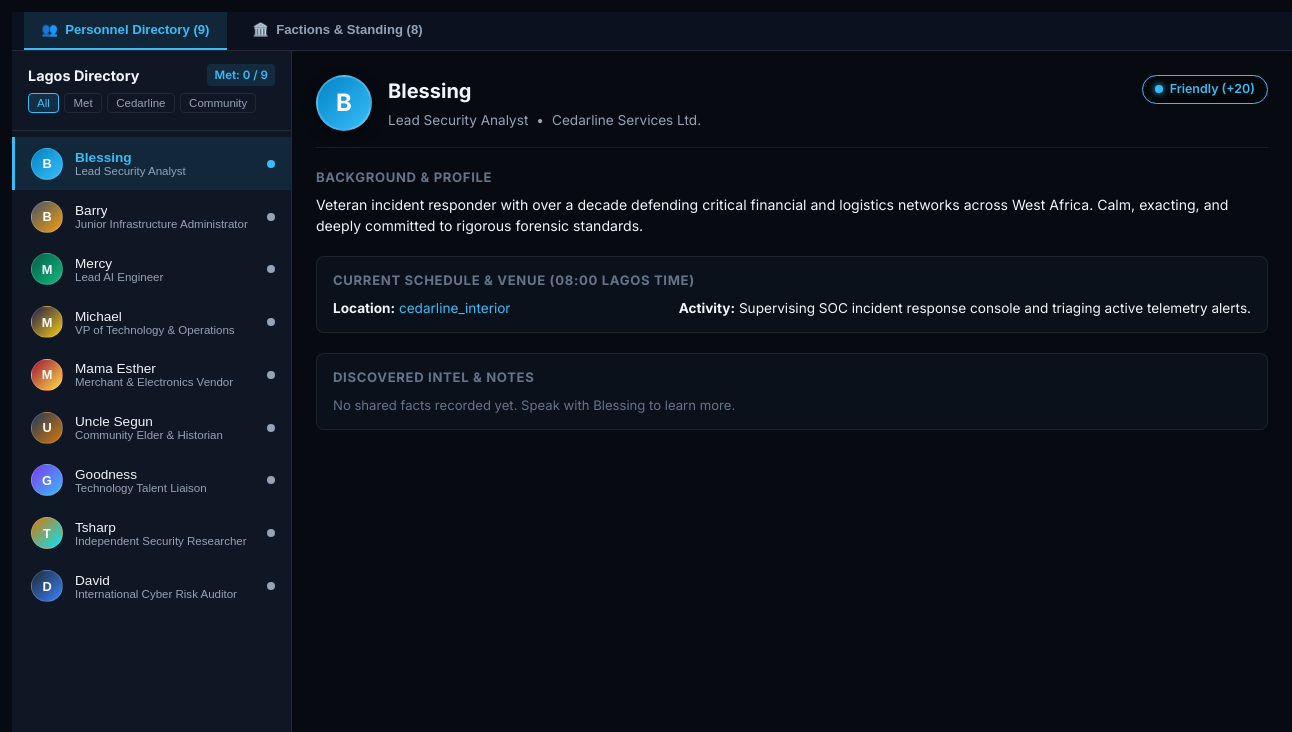
ContactsApp Component › filters contacts by organization/category tabs
The width and height of the screenshot is (1292, 732).
# Filter by Cedarline
Step 1. Click the button with test id "filter-btn-cedarline" → (141, 103), box [107,93,174,113]
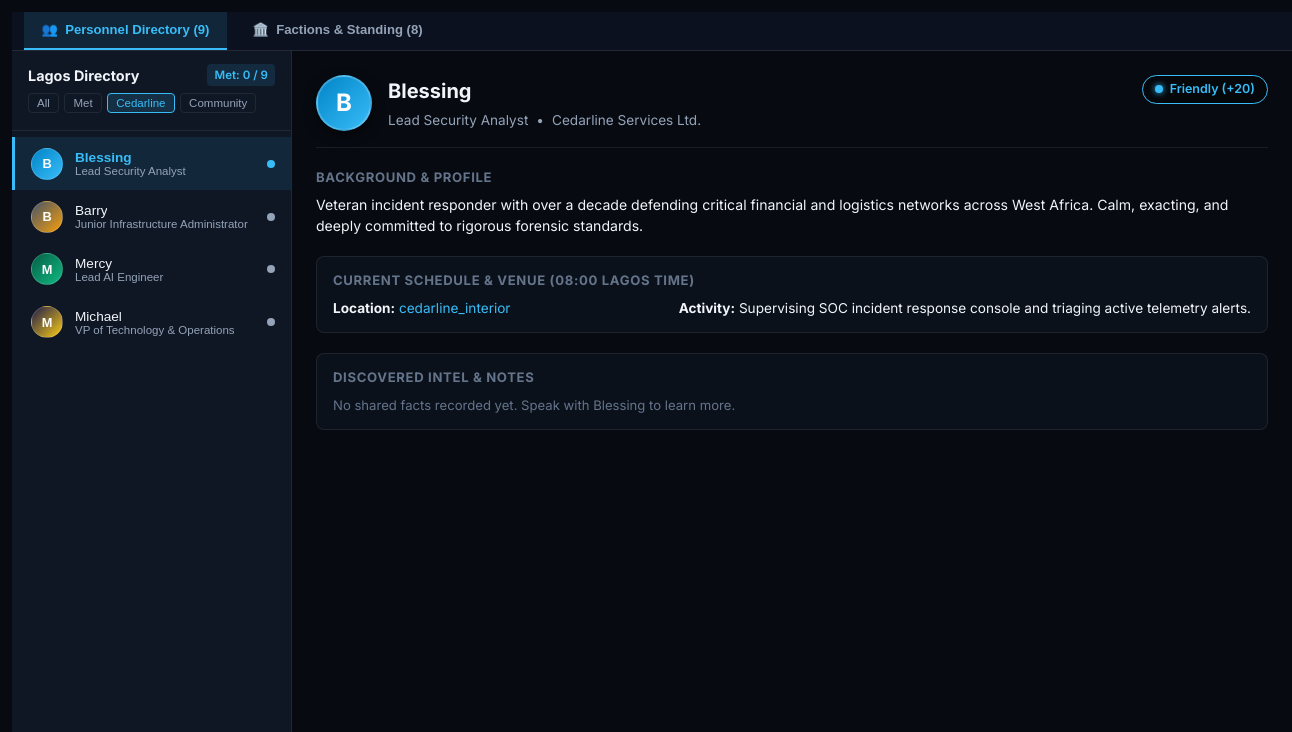
Expected: the button with test id "contact-item-npc_amina" is shown, [12,137,291,190]
Now the button with test id "contact-item-npc_nkechi" is gone
# Filter by Community
Step 2. Click the button with test id "filter-btn-community" → (218, 103), box [180,93,256,113]
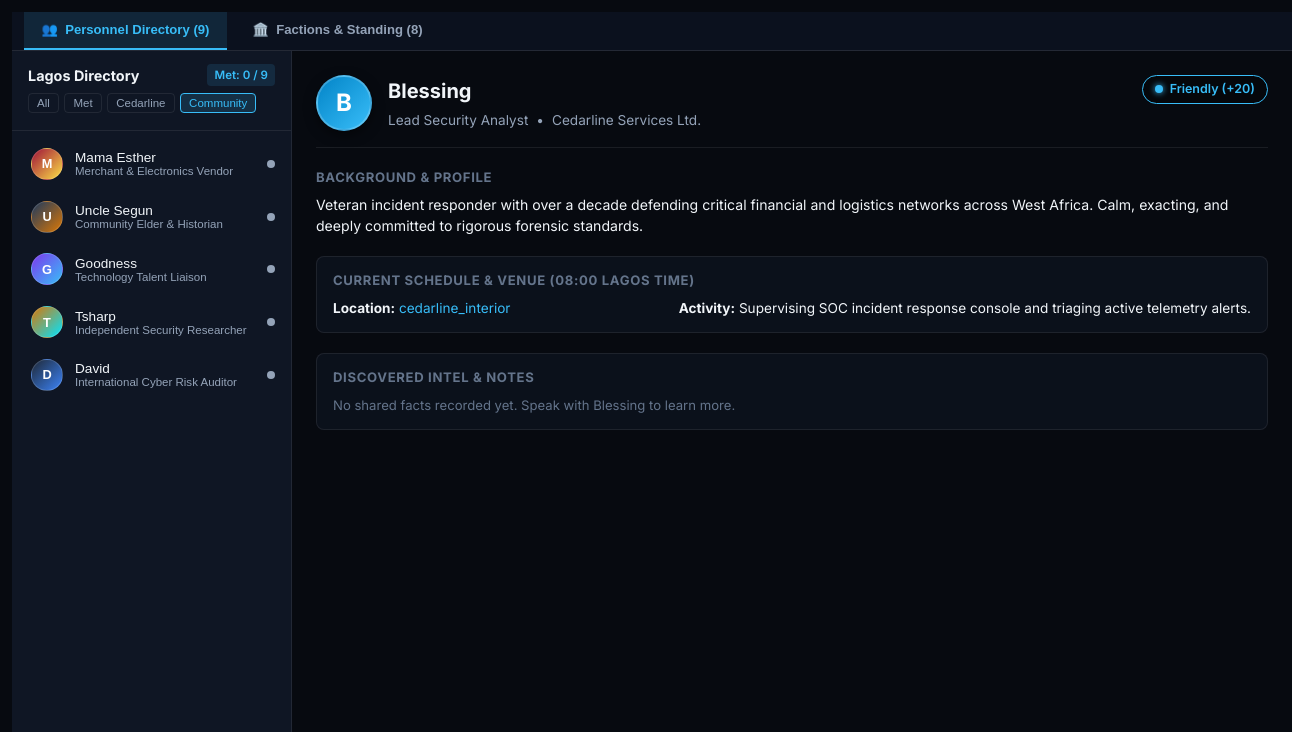
Now the button with test id "contact-item-npc_nkechi" is shown, box [12,137,291,190]
Now the button with test id "contact-item-npc_segun" is shown, box [12,190,291,243]
Now the button with test id "contact-item-npc_amina" is gone
